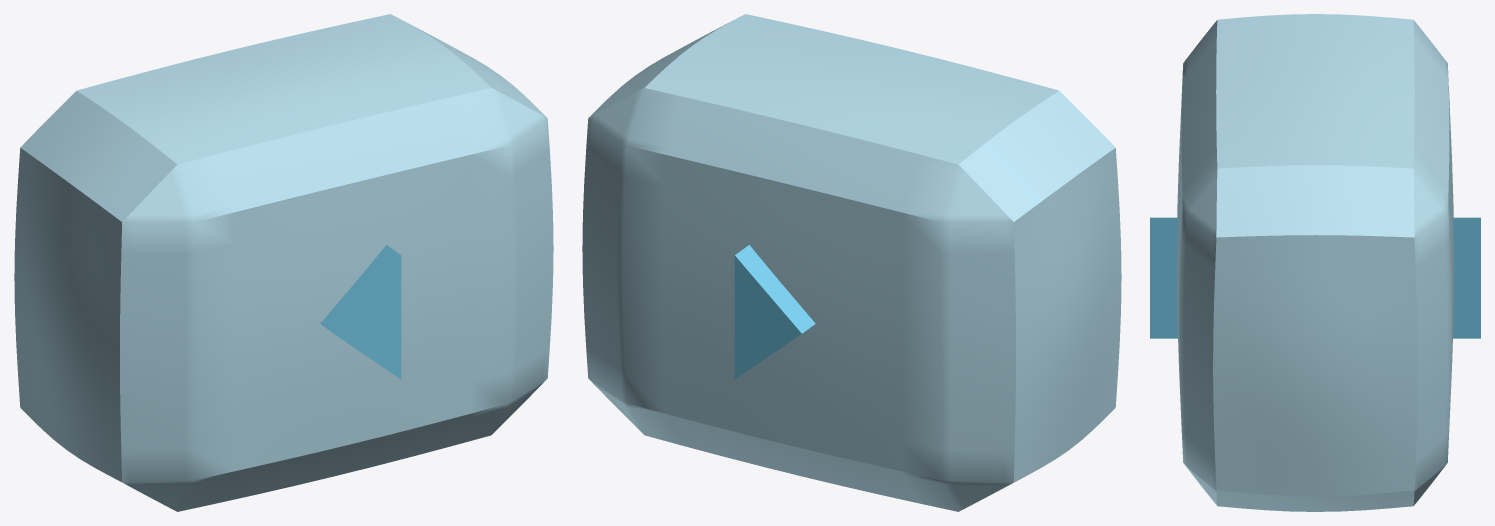
Rendered from play_button_animation_frame5.fbx.
3 views of the same model, side by side, from view 1: azimuth 30°, elevation 25°; view 2: azimuth 150°, elevation 25°; view 3: azimuth 270°, elevation 25° (orthographic). The views are drawn at different scales.
Parts seen in each view (by area): view 1: Button, Triangle; view 2: Button, Triangle; view 3: Button, Triangle.
Boxes of the visible parts, x1,y1,x2,y2 form: Button: [14, 14, 553, 511]; Triangle: [320, 245, 401, 379]; Button: [582, 14, 1121, 511]; Triangle: [734, 245, 815, 379]; Button: [1177, 14, 1453, 511]; Triangle: [1150, 217, 1480, 338].
Size of the model in its own units: 376 by 290 by 245.
